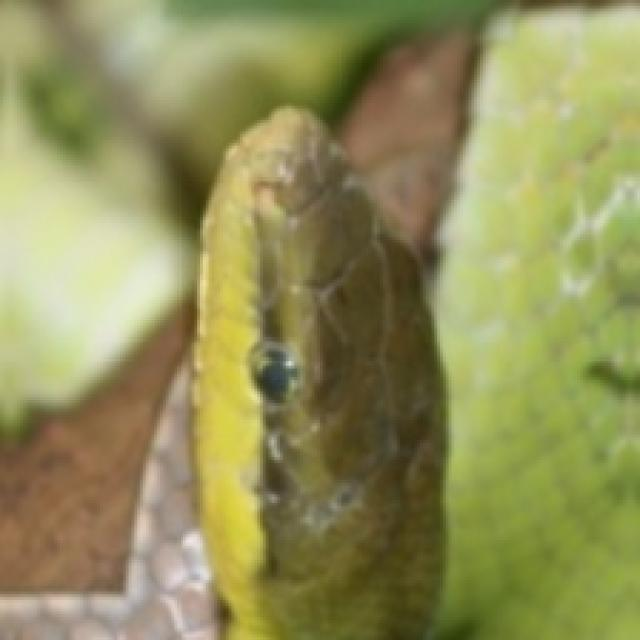red-tailed green ratsnake: (194, 109, 443, 637), (435, 6, 640, 639), (0, 362, 214, 639)
